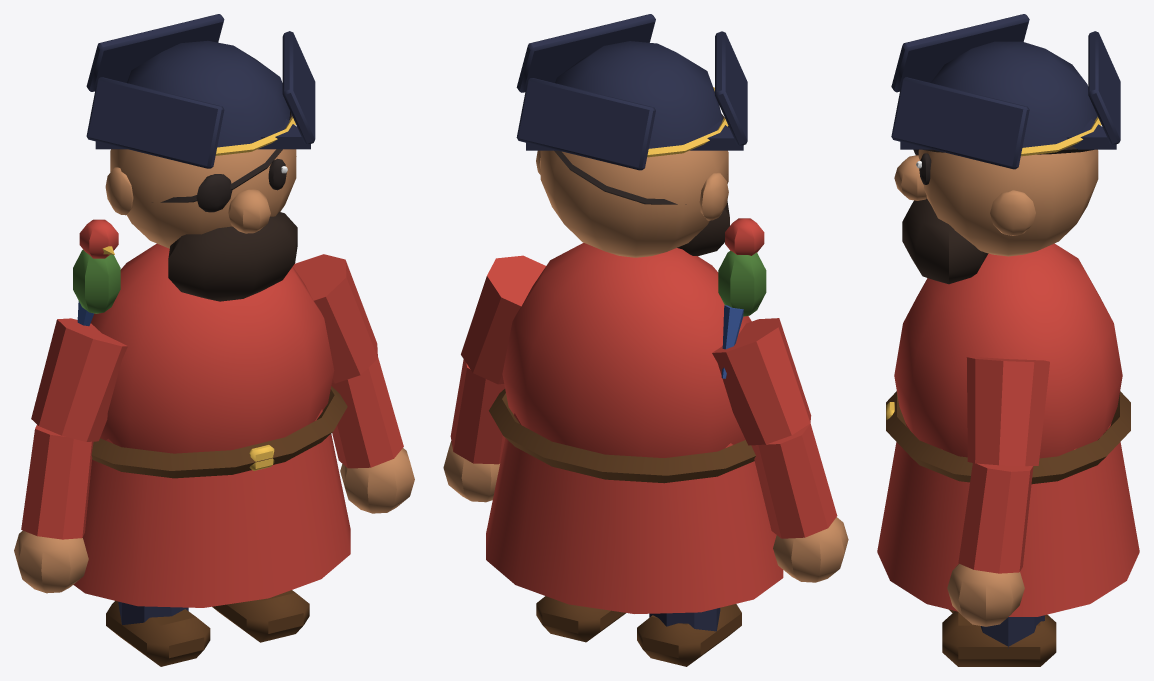
The model's file is CH_Cust_25_KorsanKaptan.fbx.
3 renders of one model, left to right at view 1: azimuth 30°, elevation 25°; view 2: azimuth 150°, elevation 25°; view 3: azimuth 270°, elevation 25°, orthographic.
Visible parts, largest first — view 1: CH_Cust_25_KorsanKaptan; view 2: CH_Cust_25_KorsanKaptan; view 3: CH_Cust_25_KorsanKaptan.
Part boxes in pixels (x1,y1,x2,y2): CH_Cust_25_KorsanKaptan: (14, 14, 414, 666); CH_Cust_25_KorsanKaptan: (443, 14, 848, 666); CH_Cust_25_KorsanKaptan: (877, 14, 1139, 666).
Bounding box in the file's own units: 0.9968 × 1.41 × 0.575.
